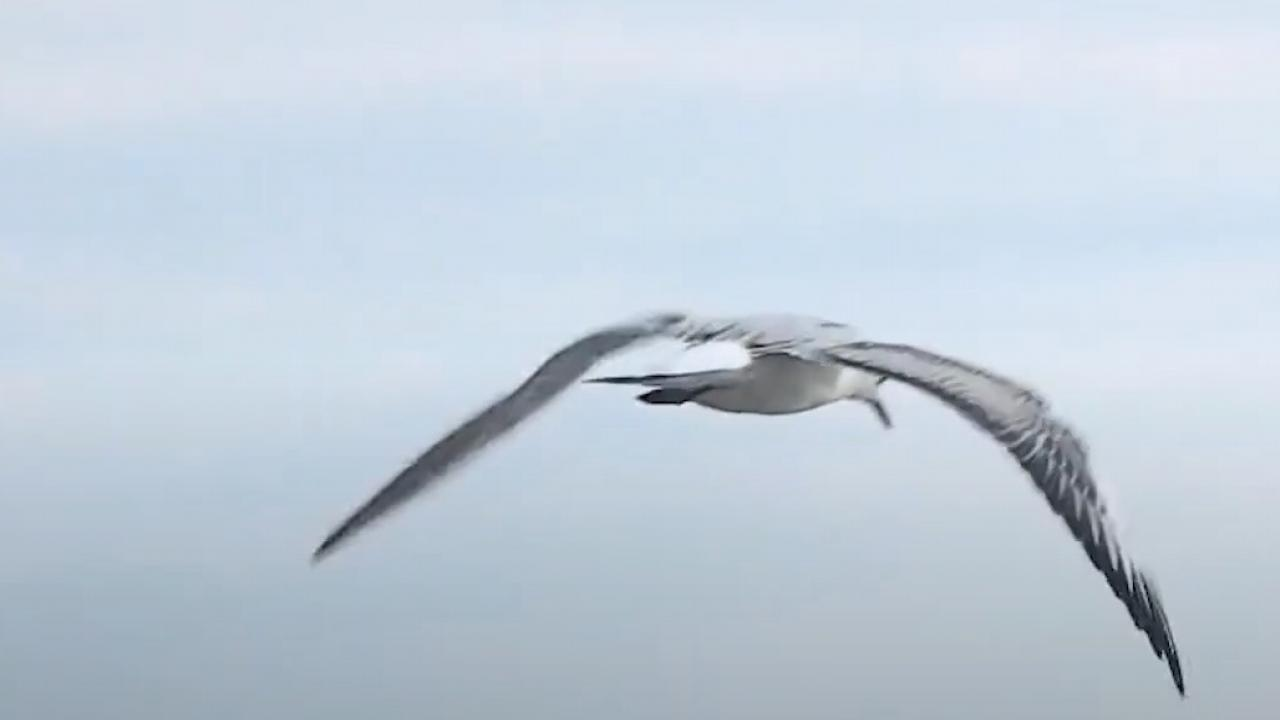Bird: (303, 294, 1203, 711)
